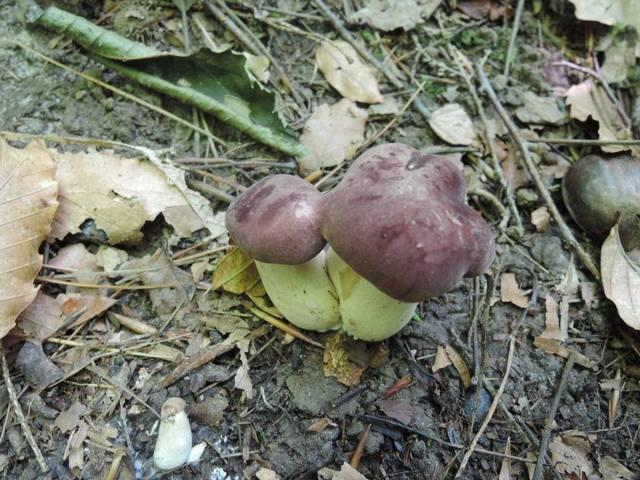poisonous_mushroom: (224, 141, 496, 343)
